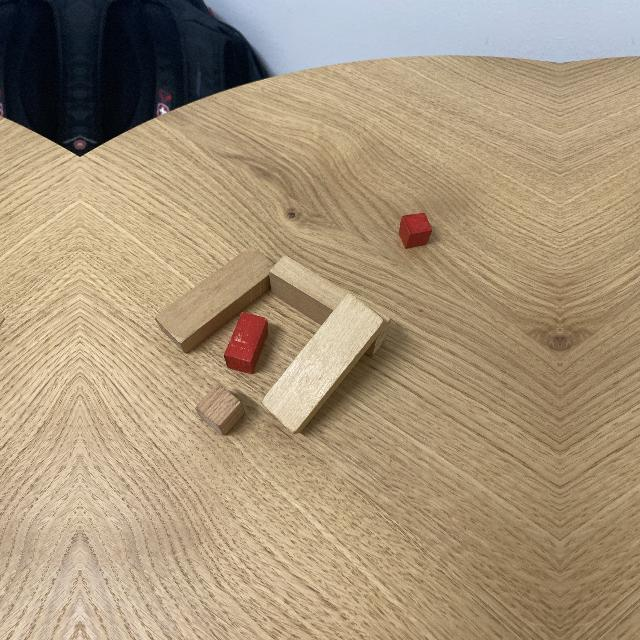cube: (198, 385, 246, 436)
jenga: (260, 294, 386, 436), (267, 254, 391, 355), (155, 248, 275, 349)
red block: (224, 310, 271, 371)
red cube: (399, 214, 432, 248)
